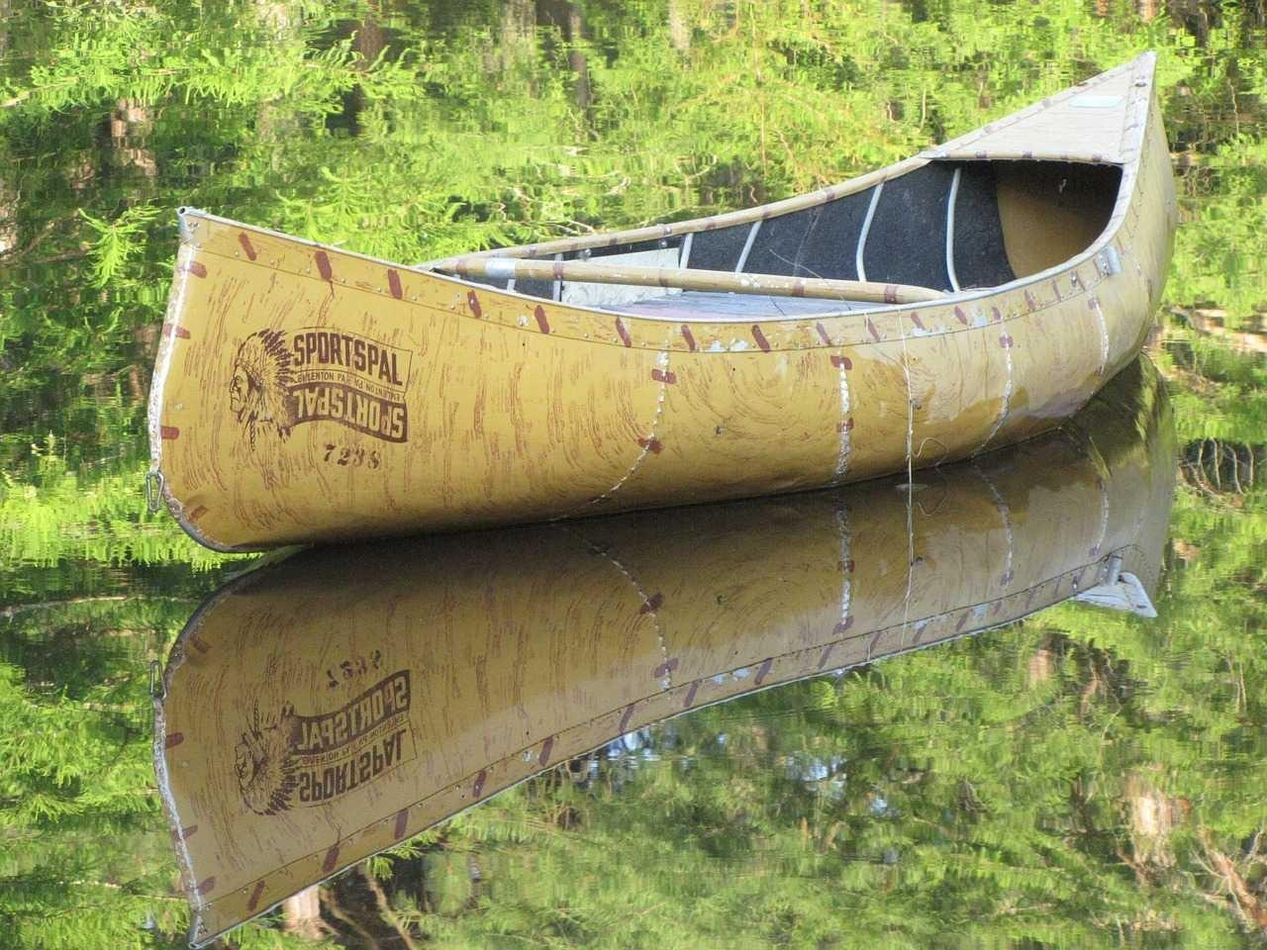kayak: (152, 60, 1176, 550)
